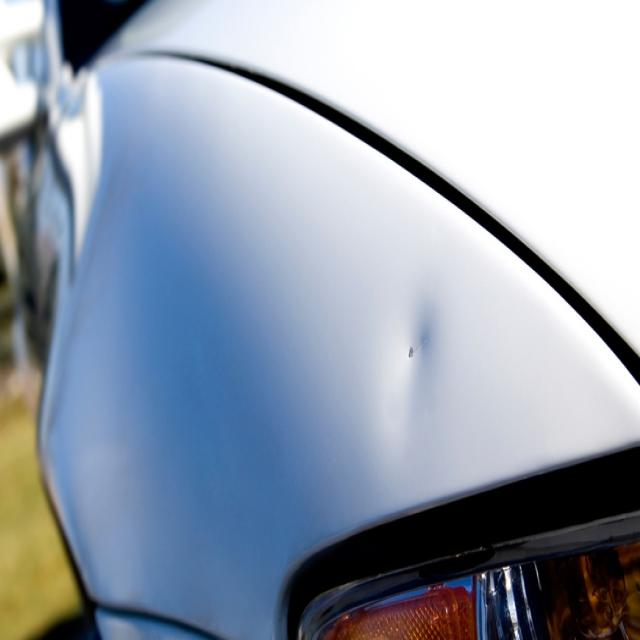dent: (364, 277, 441, 452)
